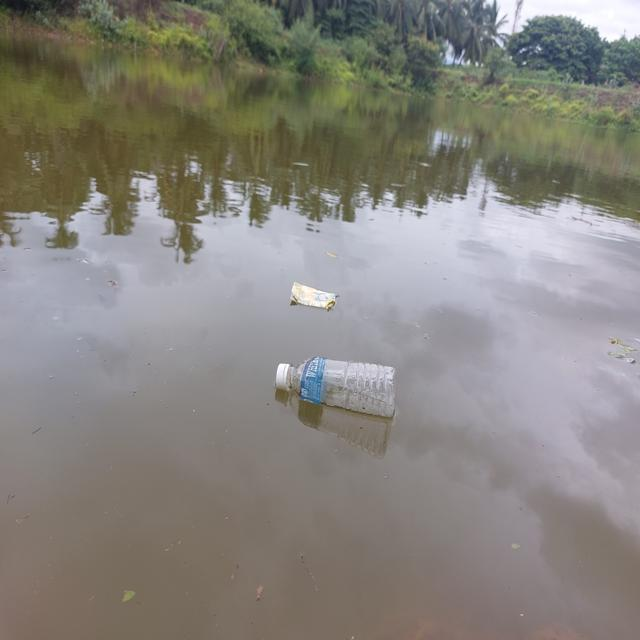paper: (283, 264, 335, 326)
waterbottle: (272, 352, 418, 458)
